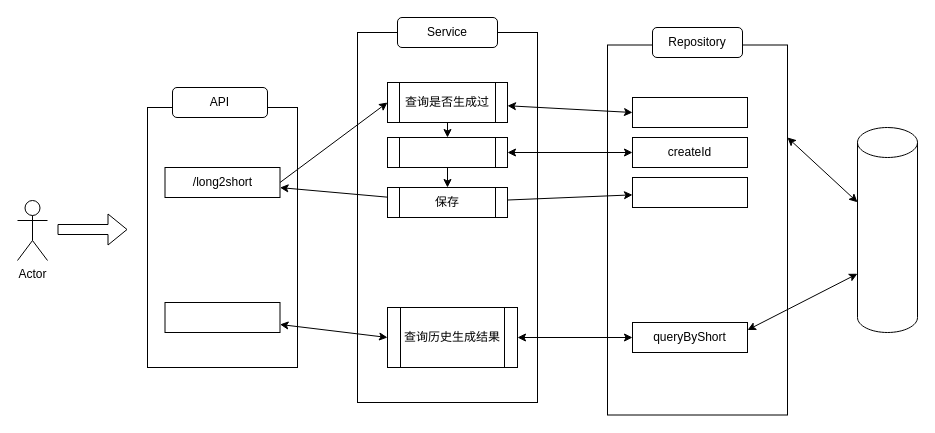
The diagram is 935 pixels wide and 433 high, and some of its shapes have lost their labels. The shapes that lost their labels are listed below. From the top down, each one's centre as x and y in pixels, then its label:
the point at 690,112: queryByUrl
the point at 447,152: 生成 算法：id自增
the point at 690,192: save
the point at 887,229: Redis
the point at 222,317: /short2long
